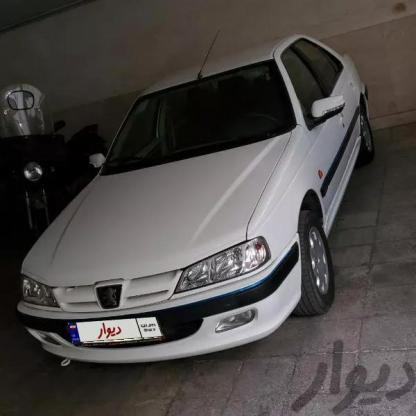Car: (19, 35, 371, 366)
